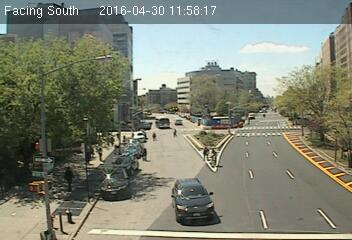neg: (104, 175, 121, 198), (8, 193, 24, 215), (281, 134, 296, 154), (40, 101, 54, 120), (253, 178, 267, 197), (25, 135, 38, 153), (193, 192, 206, 210), (317, 79, 330, 96), (322, 168, 334, 183), (204, 92, 214, 106), (73, 95, 83, 107), (284, 115, 293, 127), (214, 115, 222, 126), (131, 115, 139, 125), (241, 122, 248, 132), (184, 116, 190, 124), (113, 116, 119, 124), (158, 115, 163, 122)
pos: (60, 163, 81, 190), (94, 144, 108, 163), (208, 149, 221, 167), (201, 144, 213, 160), (84, 145, 96, 161), (140, 146, 150, 159), (110, 135, 118, 146), (172, 128, 179, 139), (151, 131, 158, 140)
